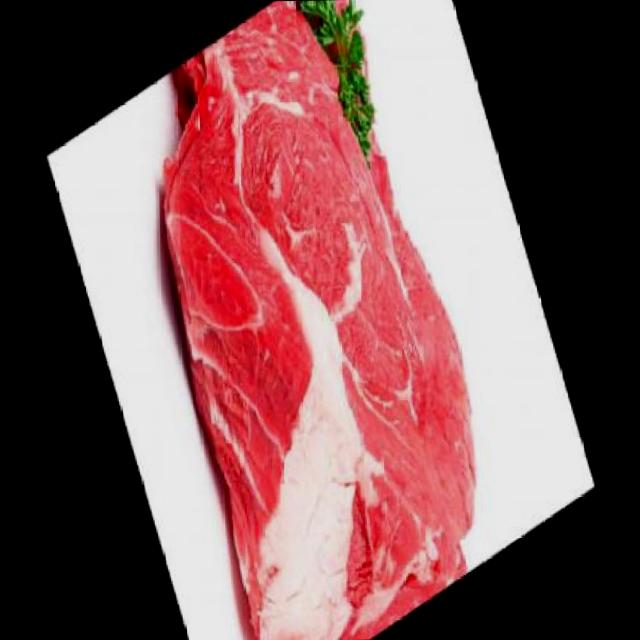beef: (96, 0, 522, 640)
